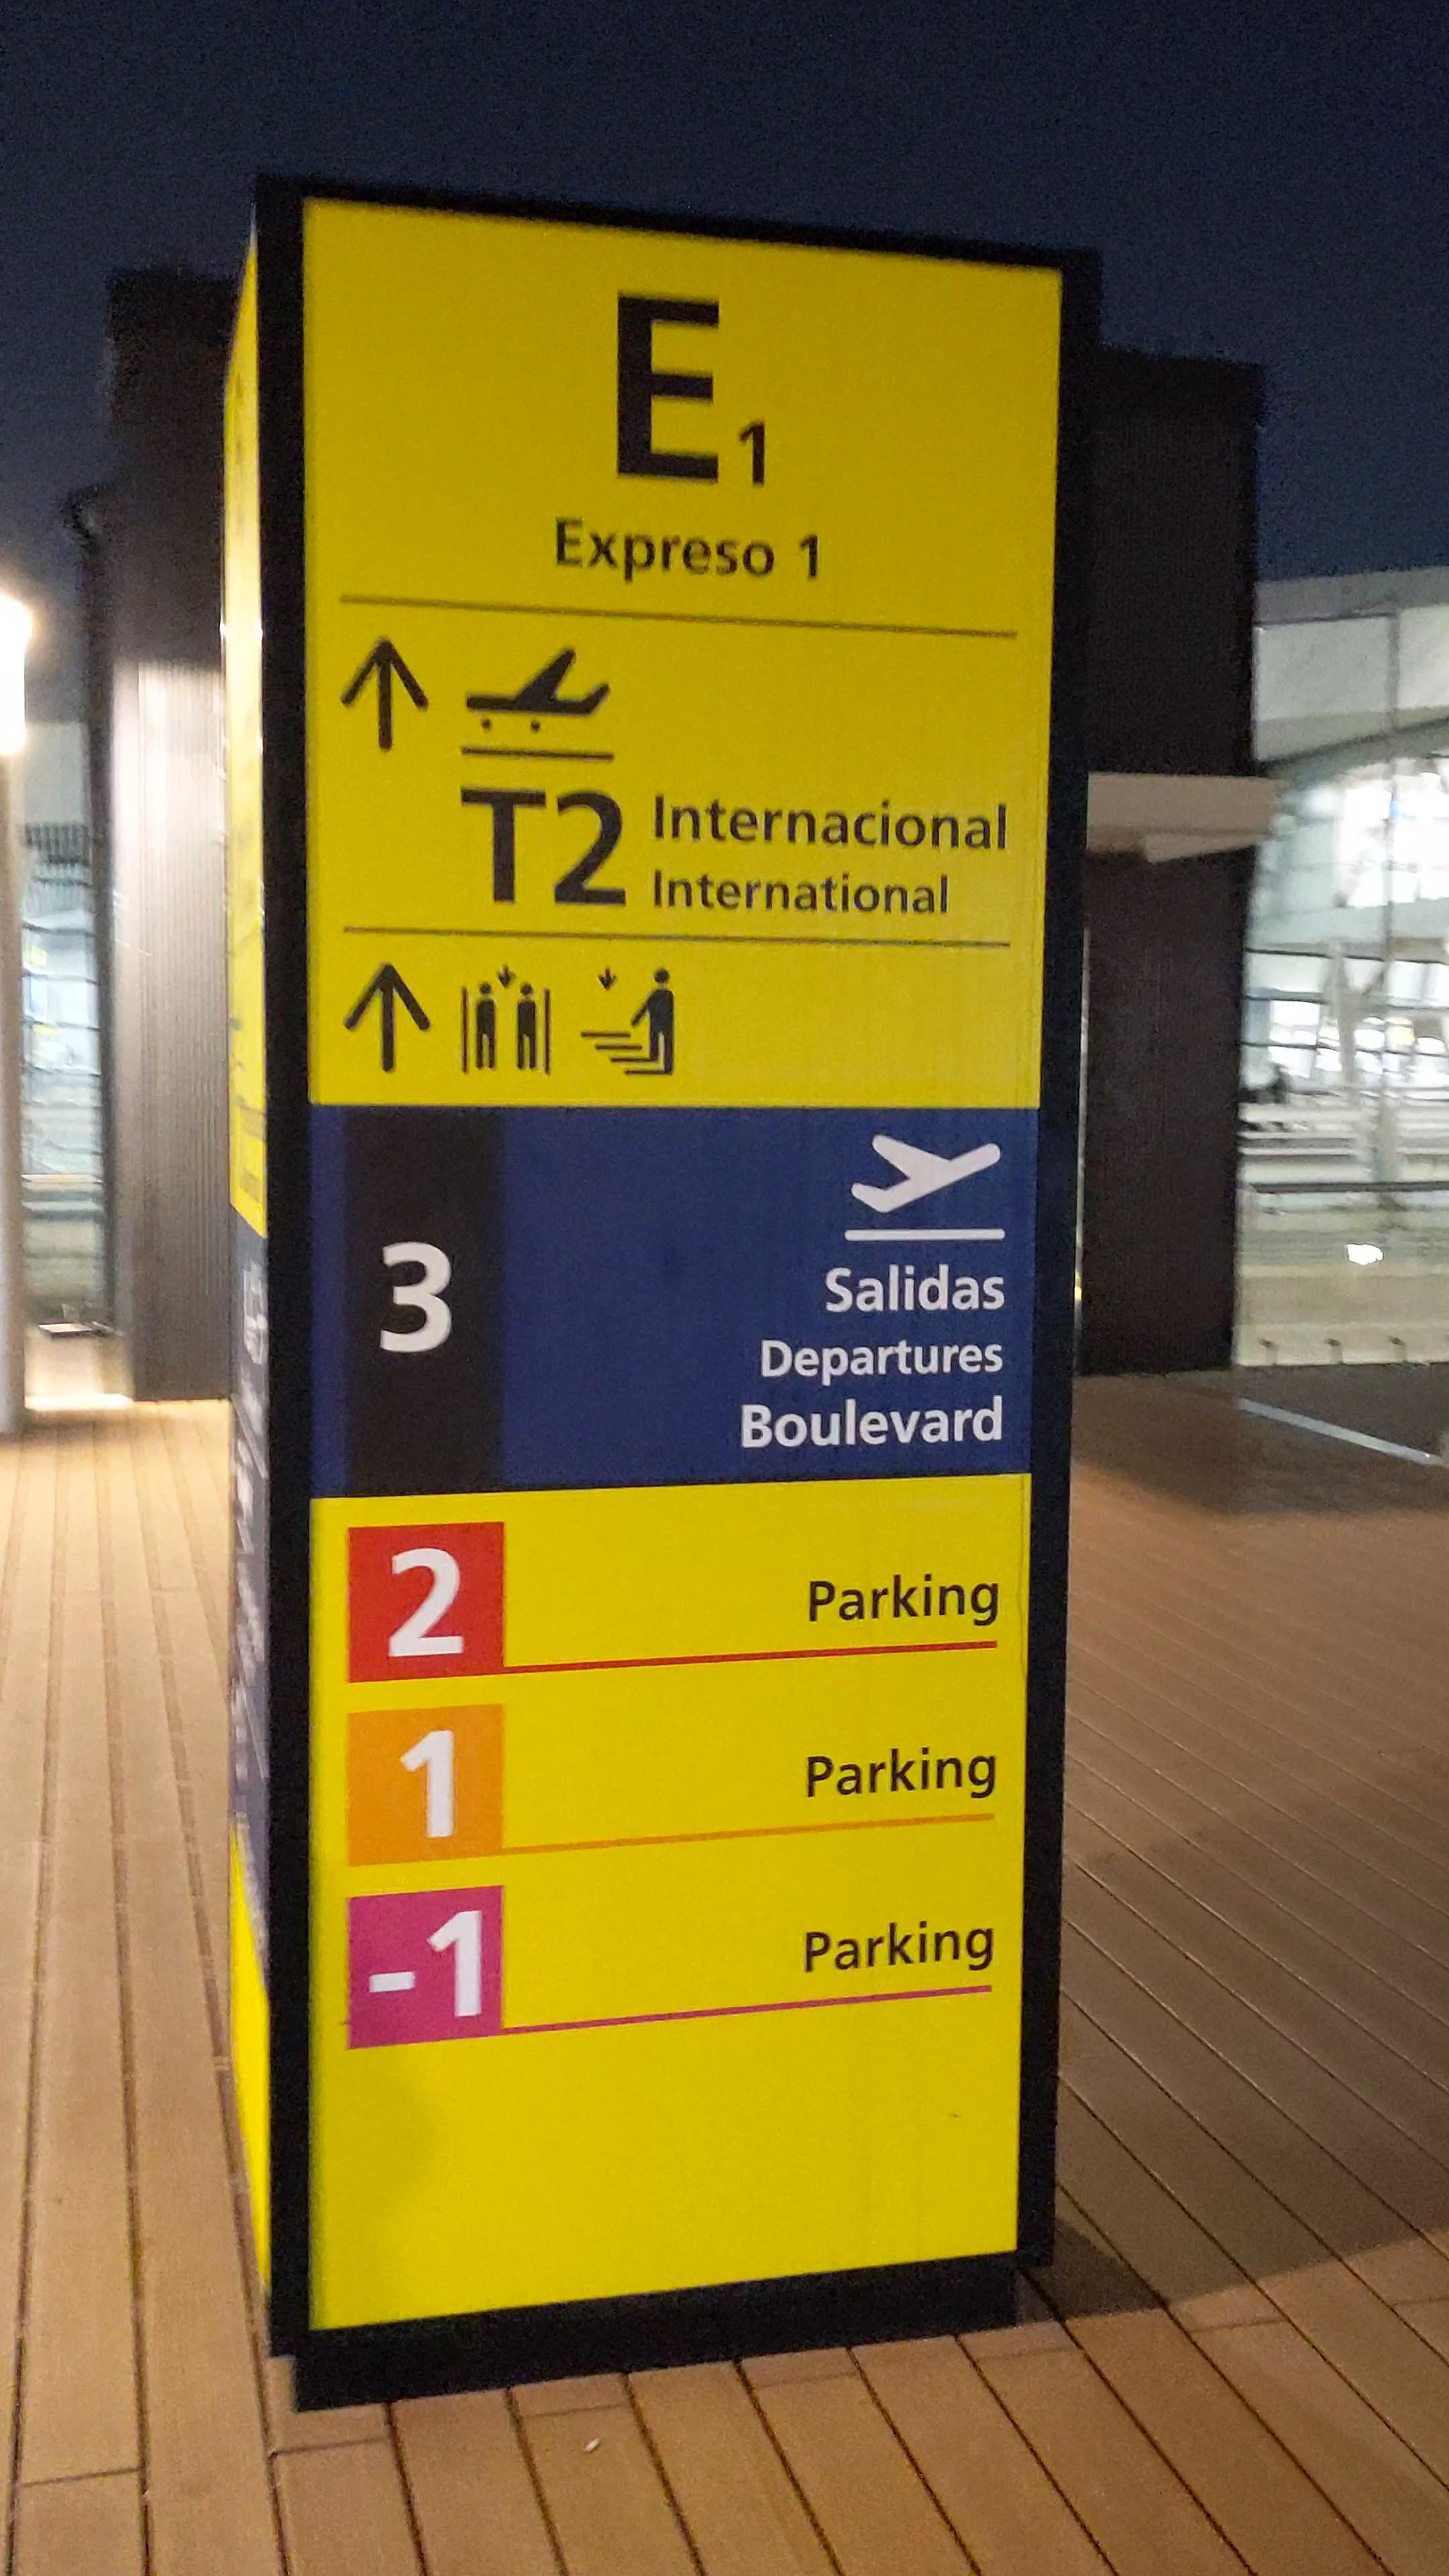airplane symbol: (453, 640, 614, 740), (846, 1122, 1008, 1215)
thin up arrow: (338, 633, 433, 759), (341, 957, 435, 1074)
